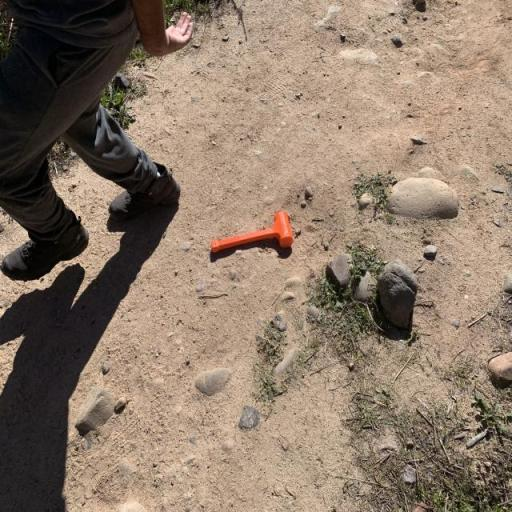mallet: (208, 208, 295, 258)
